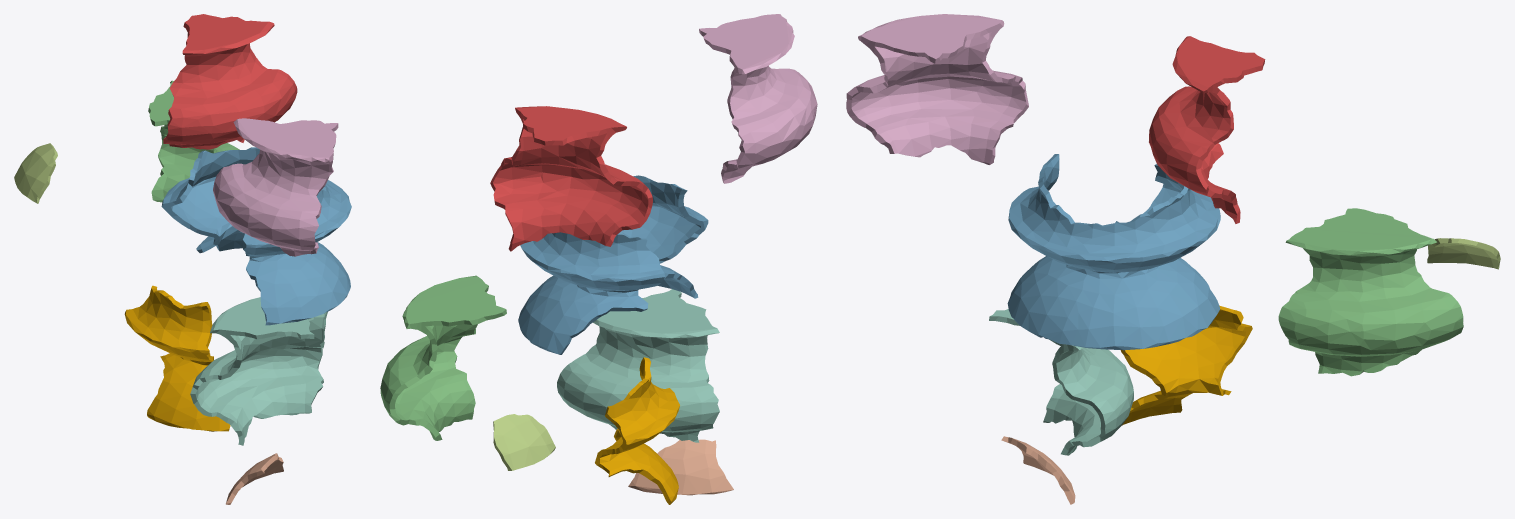
Rendered from fractured_64_8pcs_transformed.glb.
3 views of the same model, side by side, from view 1: azimuth 30°, elevation 25°; view 2: azimuth 150°, elevation 25°; view 3: azimuth 270°, elevation 25° (orthographic). The views are drawn at different scales.
Parts seen in each view (by area): view 1: piece_2.obj, piece_4.obj, piece_6.obj, piece_1.obj, piece_0.obj, piece_3.obj, piece_5.obj, piece_7.obj; view 2: piece_1.obj, piece_2.obj, piece_4.obj, piece_3.obj, piece_6.obj, piece_0.obj, piece_7.obj, piece_5.obj; view 3: piece_2.obj, piece_3.obj, piece_6.obj, piece_1.obj, piece_4.obj, piece_0.obj, piece_5.obj, piece_7.obj.
Boxes of the visible parts, bbox=[...] form: piece_2.obj: bbox=[161, 147, 351, 325]; piece_4.obj: bbox=[190, 297, 327, 445]; piece_6.obj: bbox=[213, 118, 338, 256]; piece_1.obj: bbox=[163, 14, 297, 149]; piece_0.obj: bbox=[124, 285, 230, 431]; piece_3.obj: bbox=[148, 80, 239, 202]; piece_5.obj: bbox=[14, 143, 57, 203]; piece_7.obj: bbox=[226, 453, 283, 504]; piece_1.obj: bbox=[490, 106, 652, 251]; piece_2.obj: bbox=[518, 175, 708, 354]; piece_4.obj: bbox=[557, 289, 719, 442]; piece_3.obj: bbox=[380, 275, 506, 440]; piece_6.obj: bbox=[699, 14, 817, 183]; piece_0.obj: bbox=[595, 357, 679, 504]; piece_7.obj: bbox=[628, 439, 733, 495]; piece_5.obj: bbox=[493, 414, 555, 470]; piece_2.obj: bbox=[1007, 154, 1220, 350]; piece_3.obj: bbox=[1278, 208, 1463, 376]; piece_6.obj: bbox=[846, 14, 1028, 164]; piece_1.obj: bbox=[1149, 36, 1265, 223]; piece_4.obj: bbox=[989, 309, 1133, 455]; piece_0.obj: bbox=[1120, 305, 1252, 425]; piece_5.obj: bbox=[1427, 238, 1500, 269]; piece_7.obj: bbox=[1001, 436, 1075, 504].
Size of the model in its own units: 0.9504 by 1.78 by 2.38.
